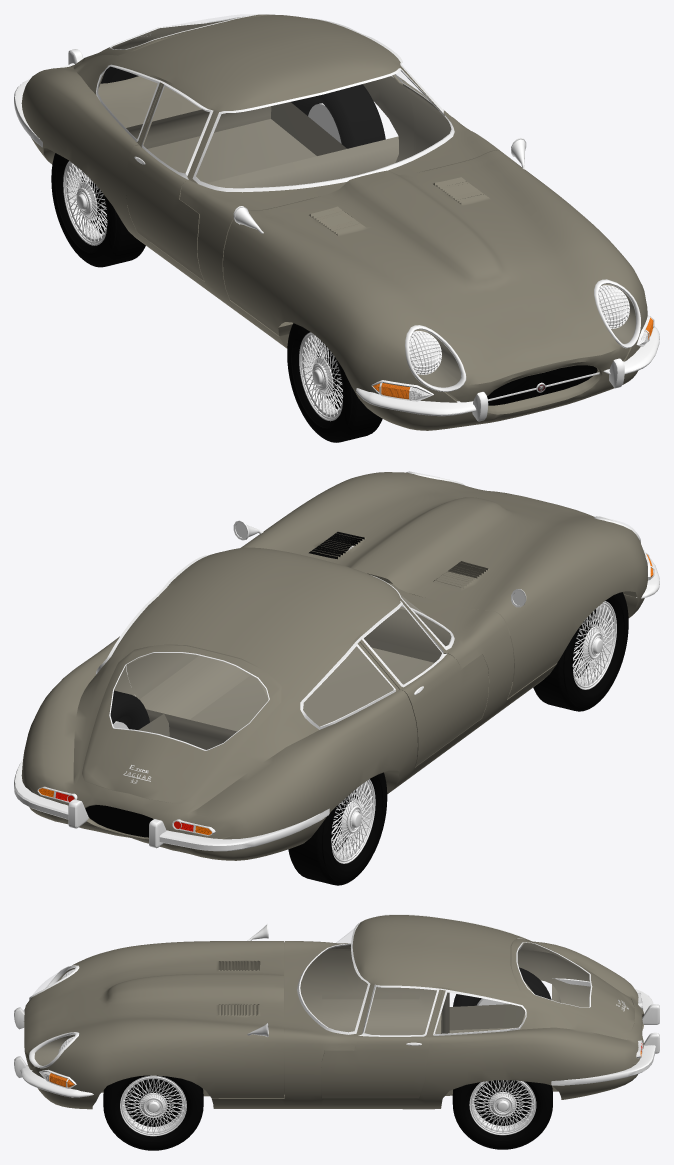
File: jaguar-e-type.glb
3 renders of one model, top to bottom at view 1: azimuth 30°, elevation 25°; view 2: azimuth 150°, elevation 25°; view 3: azimuth 270°, elevation 25°, orthographic. The views are drawn at different scales.
Parts seen in each view (by area): view 1: body_0003, body_0005, wheels_0078, wheels_0082, wheels_0080, body_0045, body_0083, wheels_0032, body_0004, wheels_0058, wheels_0024, wheels_0031 (+8 smaller); view 2: body_0003, body_0005, wheels_0082, wheels_0078, body_0004, wheels_0032, wheels_0058, body_0084, body_0019, wheels_0020, wheels_0080, body_0053 (+5 smaller); view 3: body_0003, body_0004, wheels_0076, wheels_0080, body_0005, wheels_0035, wheels_0029, wheels_0075, wheels_0079, wheels_0034, wheels_0028, body_0052 (+11 smaller).
Boxes of the visible parts, x1,y1,x2,y2 form: body_0003: [21, 14, 647, 430]; body_0005: [125, 83, 204, 280]; wheels_0078: [287, 323, 382, 442]; wheels_0082: [51, 153, 145, 267]; wheels_0080: [291, 84, 385, 148]; body_0045: [192, 68, 454, 192]; body_0083: [487, 365, 597, 405]; wheels_0032: [301, 335, 342, 417]; body_0004: [392, 74, 483, 198]; wheels_0058: [65, 163, 107, 241]; wheels_0024: [356, 388, 476, 416]; wheels_0031: [300, 333, 342, 419]; body_0003: [21, 472, 647, 860]; body_0005: [359, 639, 488, 766]; wheels_0082: [288, 772, 387, 885]; wheels_0078: [533, 592, 628, 711]; body_0004: [126, 644, 202, 701]; wheels_0032: [572, 604, 614, 686]; wheels_0058: [331, 781, 372, 860]; body_0084: [85, 805, 153, 837]; body_0019: [38, 779, 211, 847]; wheels_0020: [159, 808, 329, 851]; wheels_0080: [110, 690, 149, 729]; body_0053: [300, 601, 443, 729]; body_0003: [24, 915, 643, 1109]; body_0004: [321, 989, 442, 1098]; wheels_0076: [103, 1075, 203, 1150]; wheels_0080: [452, 1081, 552, 1149]; body_0005: [320, 948, 424, 1001]; wheels_0035: [122, 1077, 184, 1133]; wheels_0029: [472, 1080, 533, 1132]; wheels_0075: [125, 1079, 181, 1126]; wheels_0079: [474, 1080, 531, 1125]; wheels_0034: [121, 1076, 185, 1134]; wheels_0028: [470, 1080, 535, 1133]; body_0052: [362, 984, 526, 1035].
Size of the model in its own units: 1.71 by 1.25 by 4.45.
7 materials, 1 textured.
